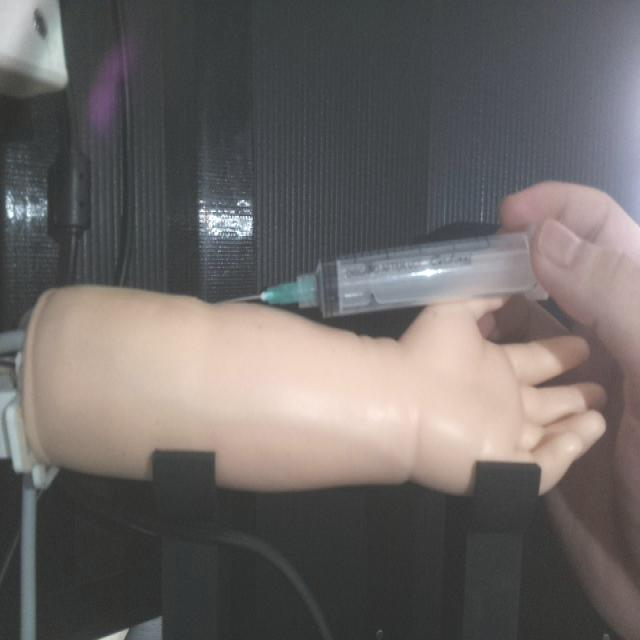Below 15 degrees: (223, 223, 552, 320)
